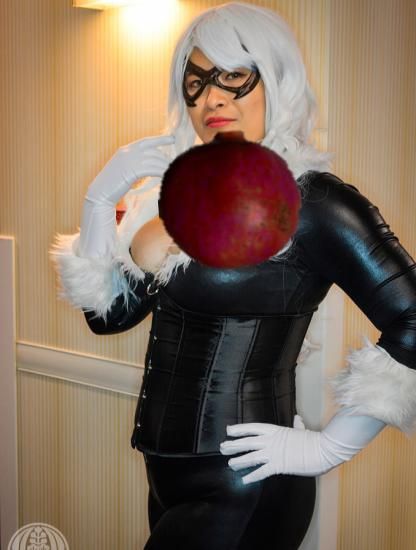Pomegranate: (158, 128, 302, 272)
